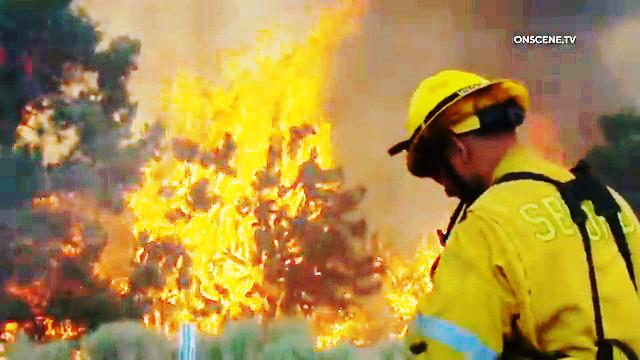fire: (130, 7, 352, 288)
